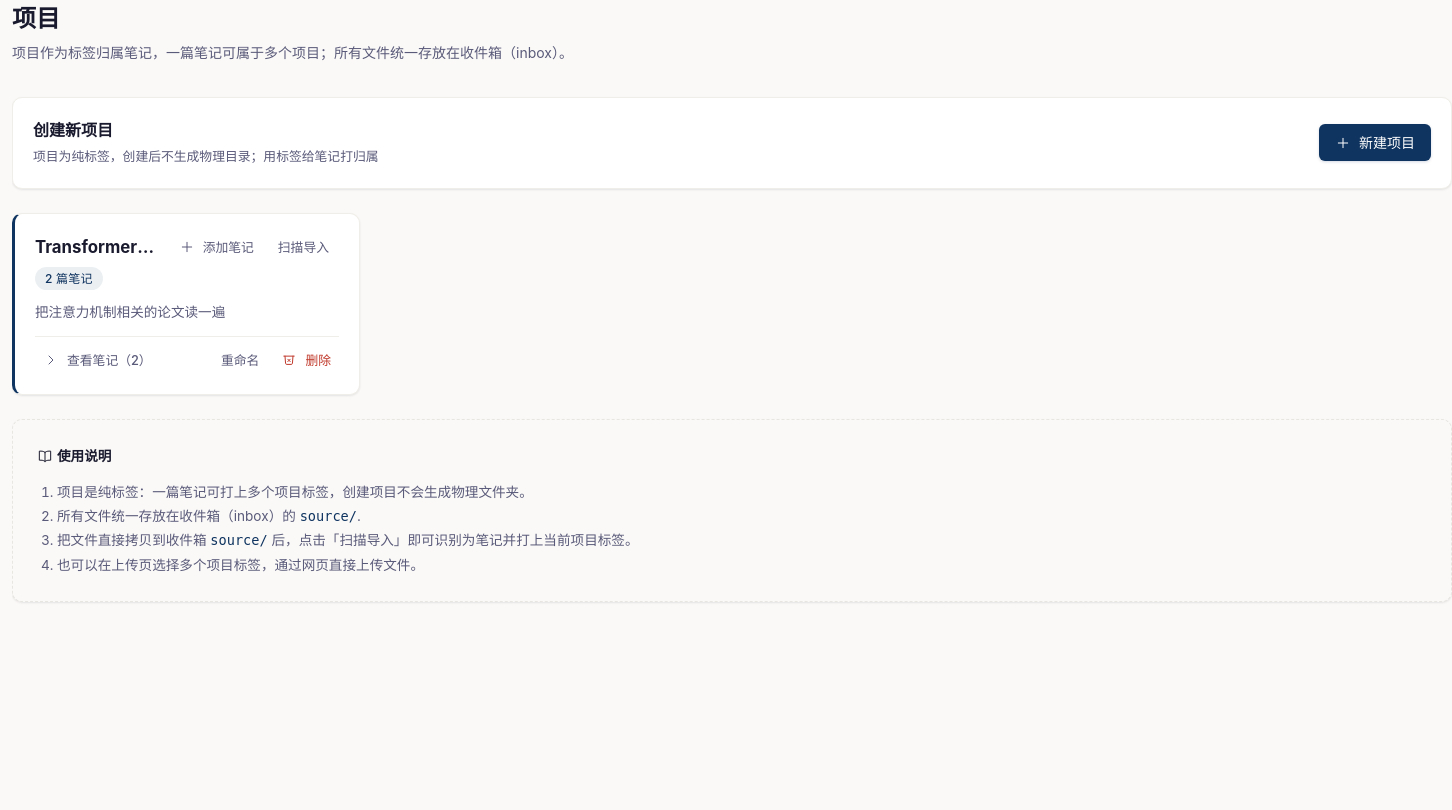
Test: 项目下的笔记 › ★ 展开才拉详情：显示笔记标题/状态/大小，再点收起即消失
The image size is (1452, 810).
Expected: the heading "Transformer 论文精读" is shown, [35,234,157,261]
Click the button "查看笔记（2）": coordinates (97, 360) [35,347,160,374]
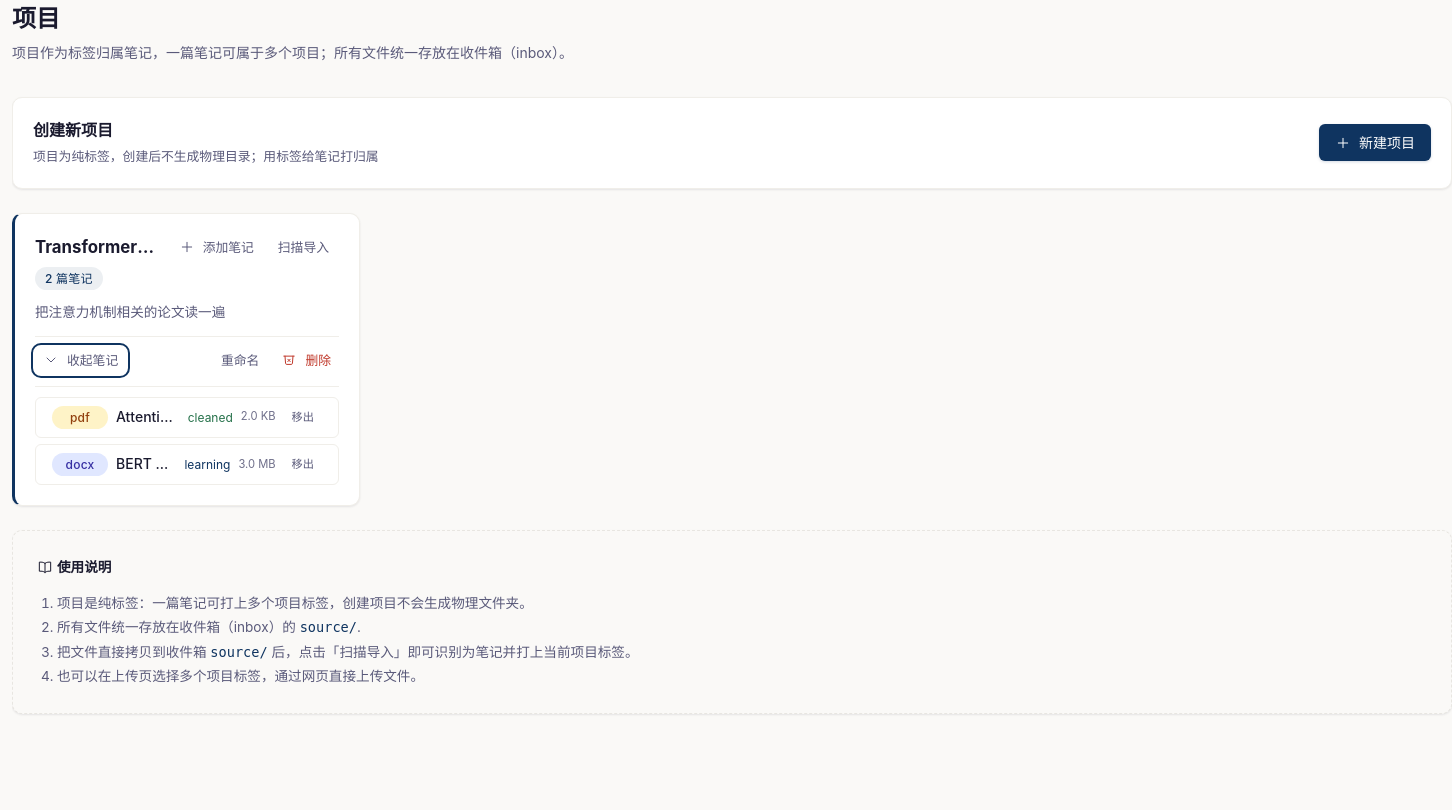
Expected: the link "Attention Is All You Need" is shown, [116,406,180,429]
Expected: the link "BERT 预训练" is shown, [116,453,176,476]
Expected: the text "2.0 KB" is shown, [241,408,276,426]
Click the button "收起笔记": coordinates (81, 360) [35,347,126,374]
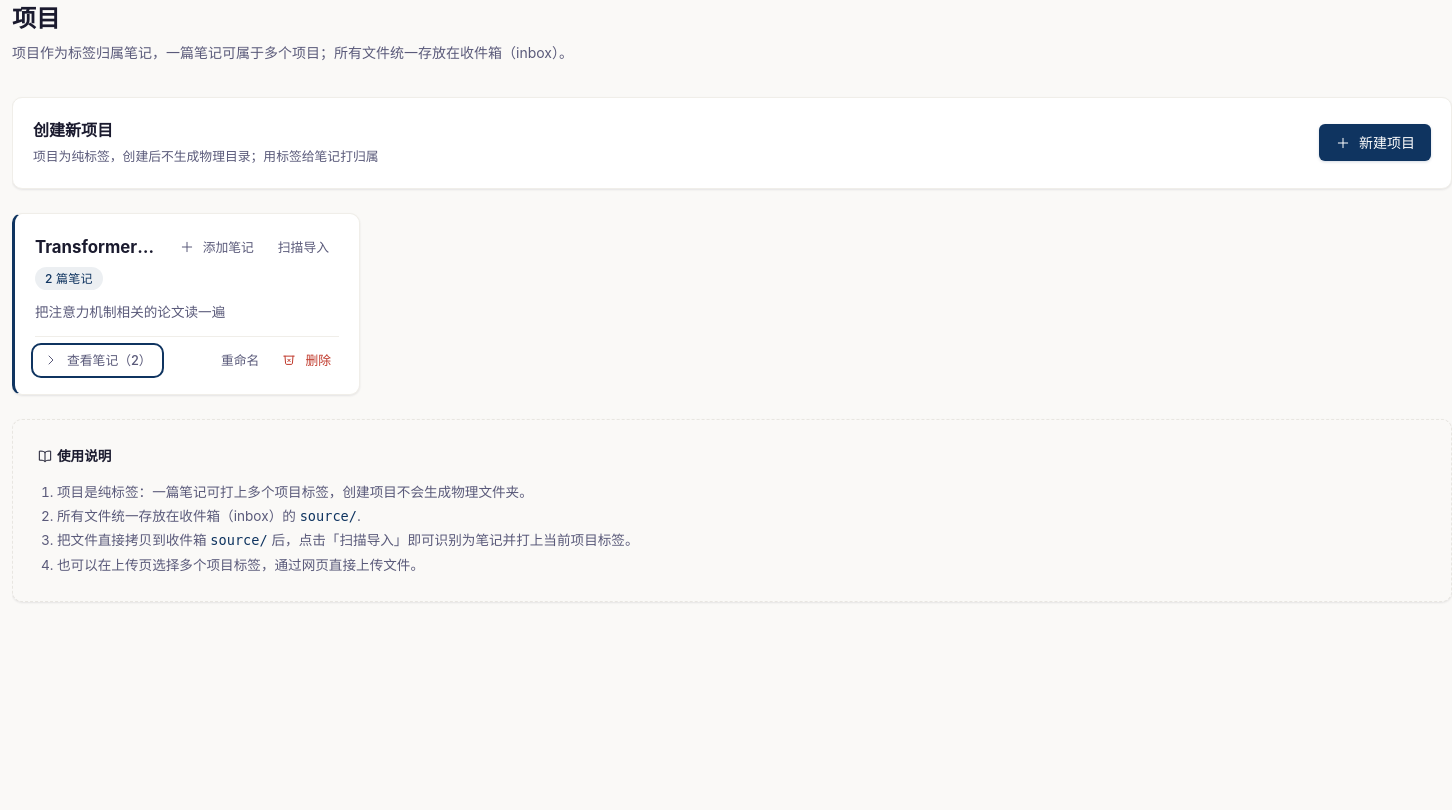
Expected: the link "Attention Is All You Need" is gone
